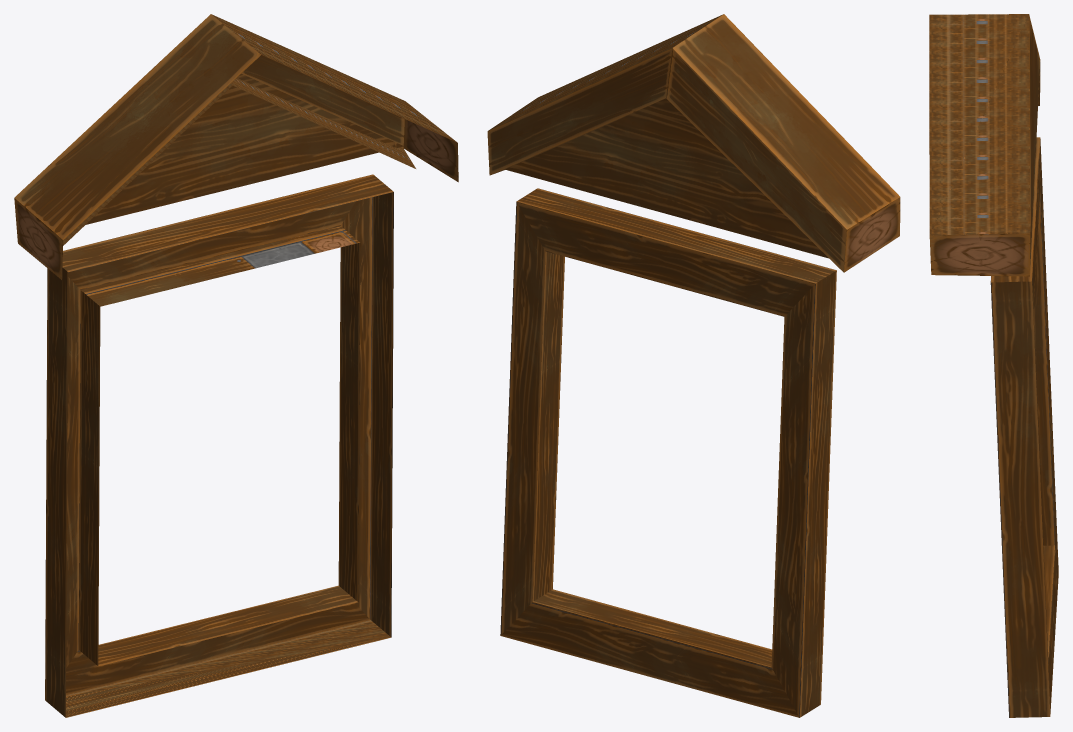
3 renders of one model, left to right at view 1: azimuth 30°, elevation 25°; view 2: azimuth 150°, elevation 25°; view 3: azimuth 270°, elevation 25°, orthographic. The views are drawn at different scales.
Parts seen in each view (by area): view 1: Cube.2018; view 2: Cube.2018; view 3: Cube.2018.
Part boxes in pixels (box(x1,y1,x2,y2)): Cube.2018: box(14, 14, 458, 717); Cube.2018: box(487, 14, 900, 717); Cube.2018: box(929, 14, 1058, 717).
Size of the model in its own units: 208 by 337 by 62.79.
Materials: 1 (1 with a texture image).
